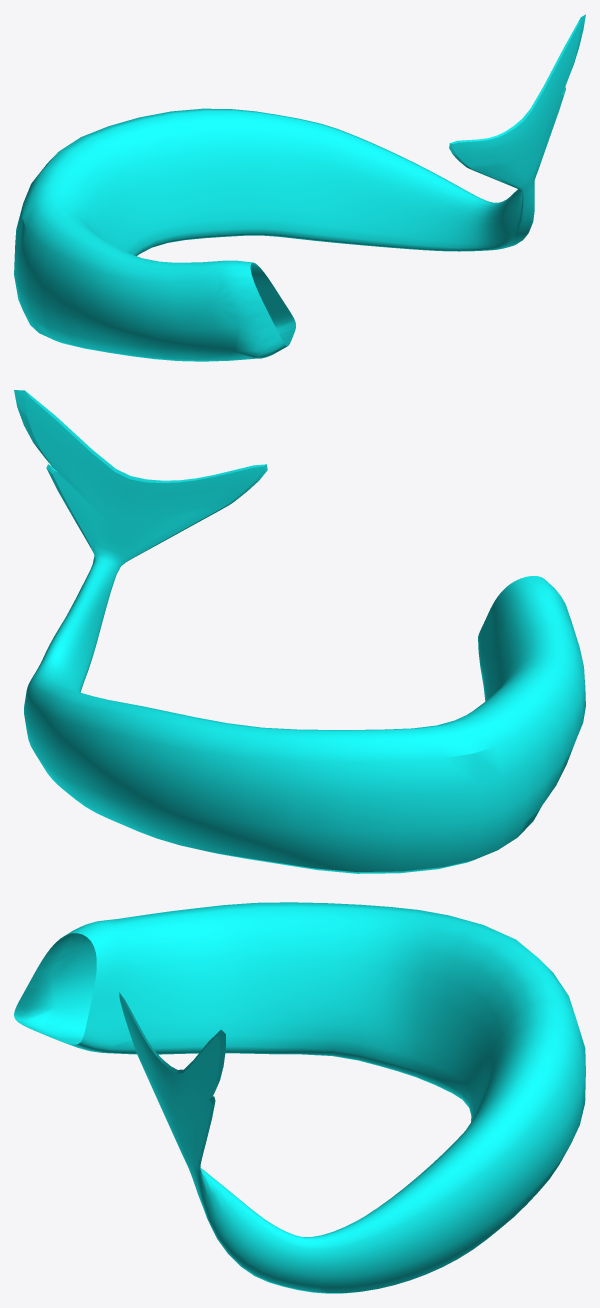
3 renders of one model, top to bottom at view 1: azimuth 30°, elevation 25°; view 2: azimuth 150°, elevation 25°; view 3: azimuth 270°, elevation 25°, orthographic. The views are drawn at different scales.
Visible parts, largest first — view 1: shark_tail; view 2: shark_tail; view 3: shark_tail.
Boxes of the visible parts, x1=… form: shark_tail: x1=14, y1=14, x2=585, y2=361; shark_tail: x1=14, y1=390, x2=585, y2=873; shark_tail: x1=14, y1=902, x2=585, y2=1293.
Size of the model in its own units: 151 by 120 by 73.05.
